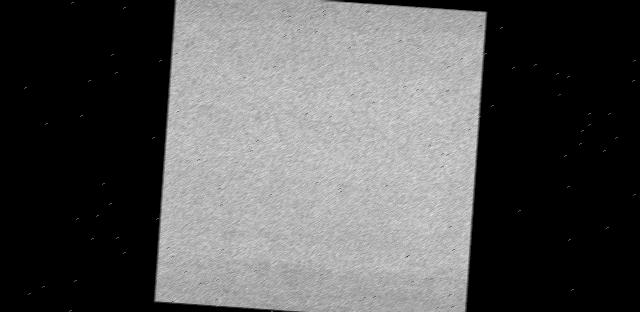silk_spot: (176, 0, 486, 170)
